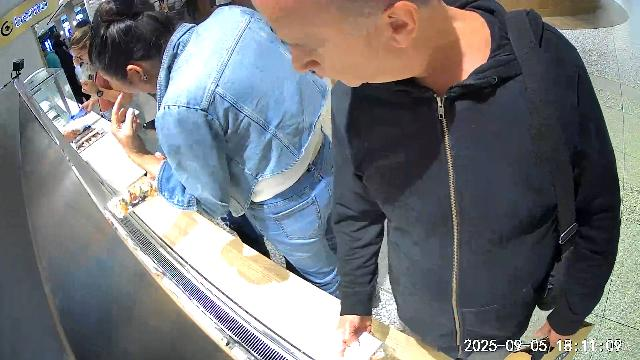sushi-box: (107, 172, 159, 219), (344, 332, 396, 358), (73, 125, 107, 153)
